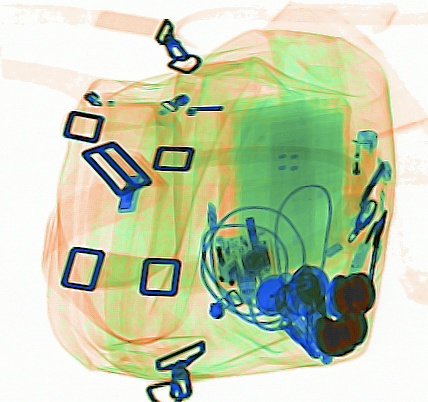lighter: (341, 127, 379, 219)
